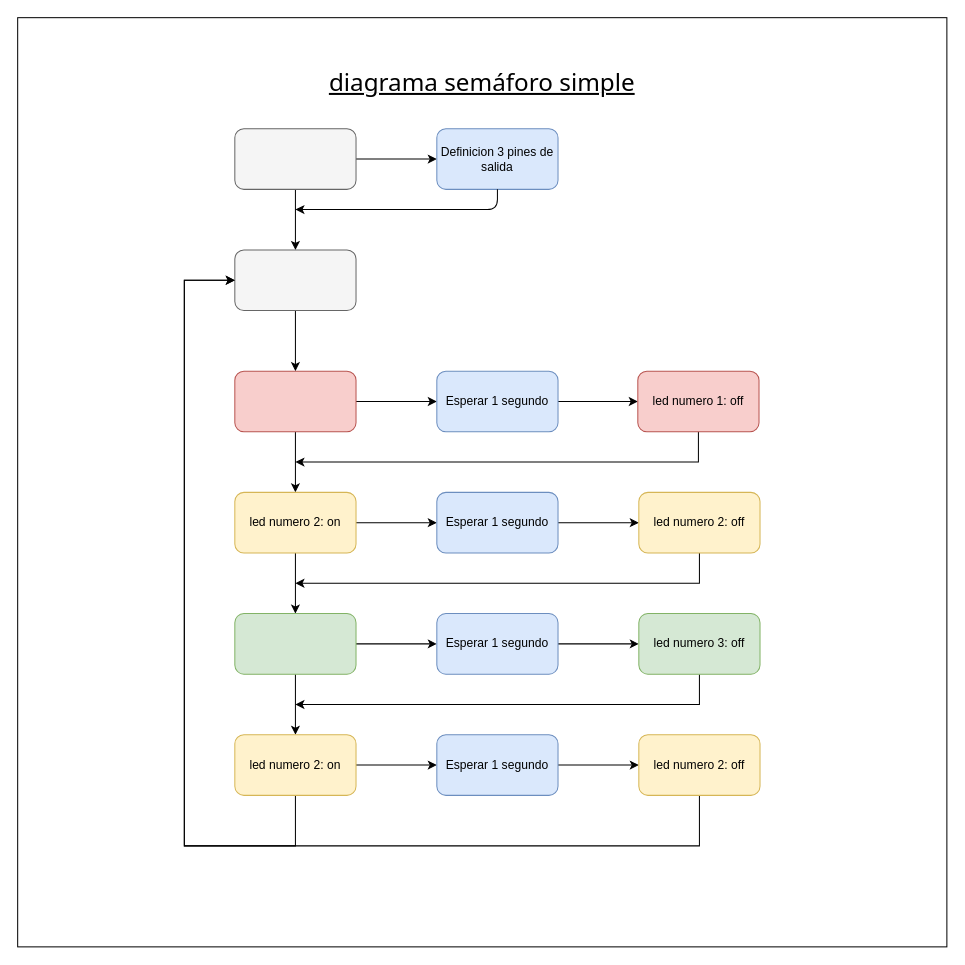
Some shapes in this 965 by 965 pixel diagram are drawn without their labels. The centre of each missing label's shape, as x and y in pixels:
led numero 1: on: [295,401]
led numero 3: on: [295,643]
loop: [295,280]
setup: [295,158]
